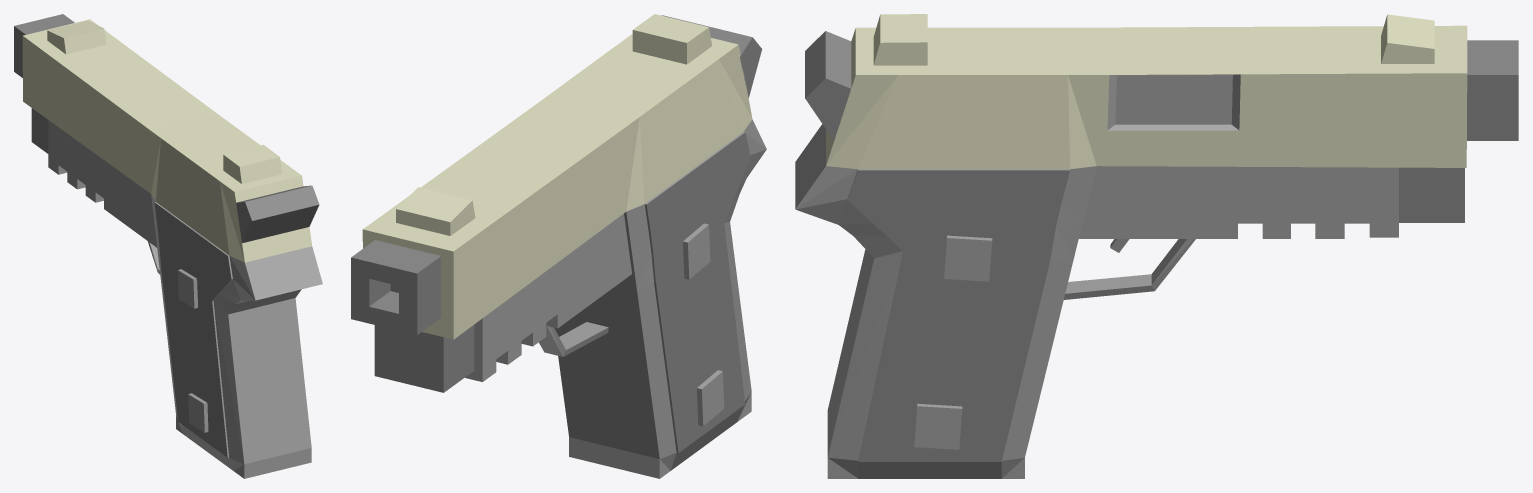
The model's file is Glock.fbx.
The picture shows the model from 3 angles, left to right: view 1: azimuth 30°, elevation 25°; view 2: azimuth 150°, elevation 25°; view 3: azimuth 270°, elevation 25°; orthographic projection. The views are drawn at different scales.
Parts seen in each view (by area): view 1: pCube13; view 2: pCube13; view 3: pCube13.
Part boxes in pixels (left/top/right/bottom): pCube13: left=14, top=14, right=322, bottom=478; pCube13: left=351, top=14, right=766, bottom=478; pCube13: left=795, top=14, right=1518, bottom=478.
Bounding box in the file's own units: 1.28 × 4.2 × 6.44.
